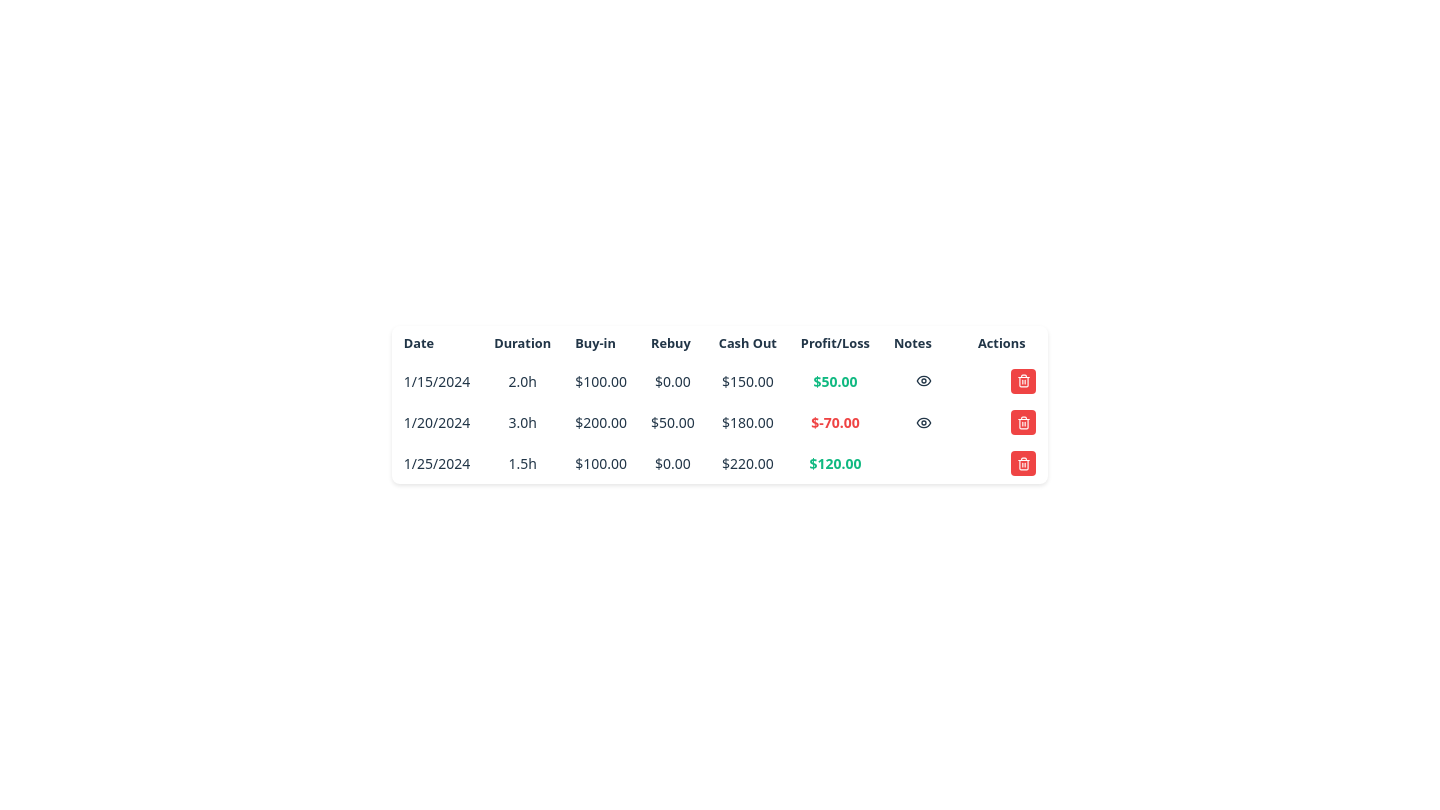
Test case: SessionTable › opens modal with notes when view notes button is clicked
Click the first view notes button
Click the button named "view notes" in the row of "1/15/2024" at x=924, y=381, box [912, 369, 936, 393]
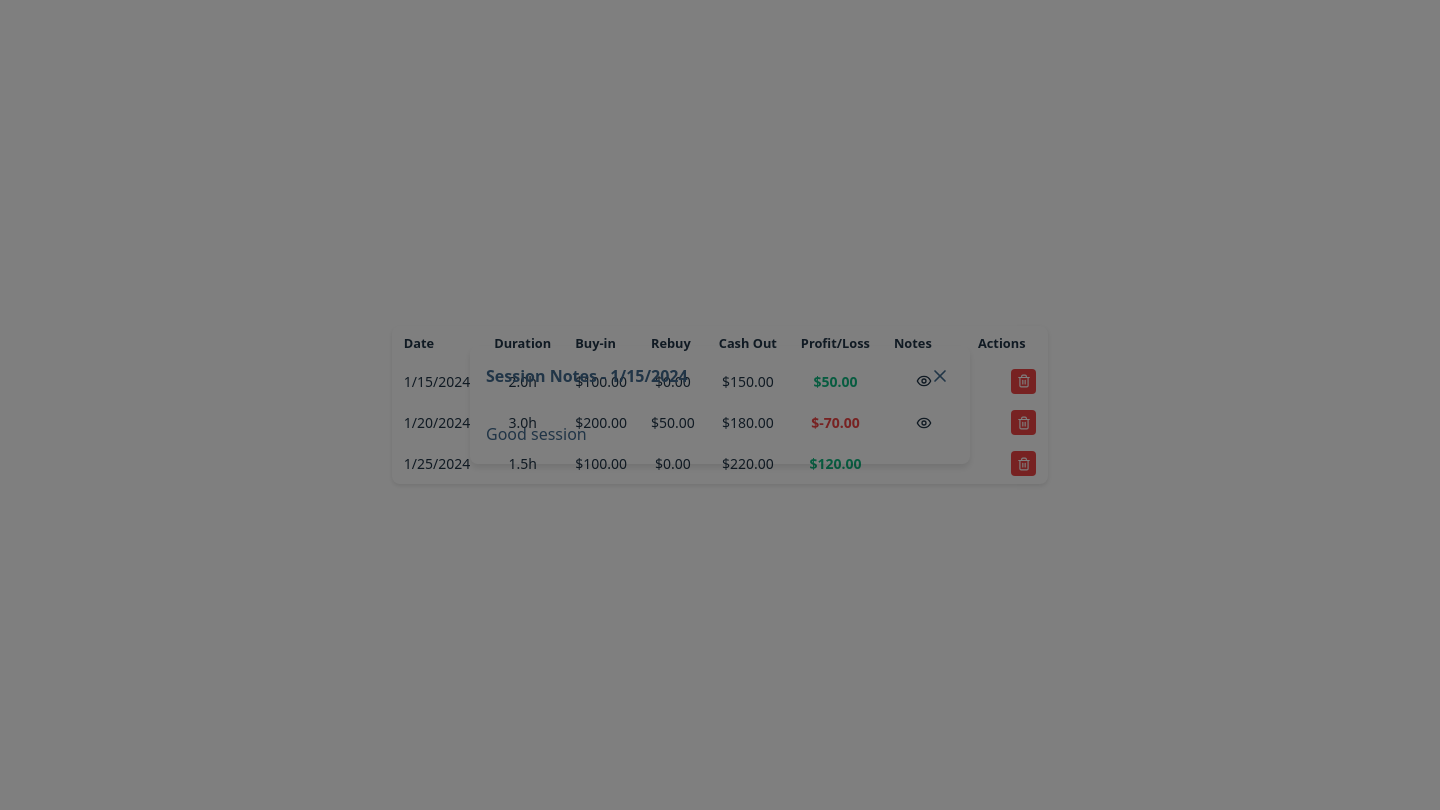
Result: the text "Good session" is shown at [486, 423, 587, 445]
Result: the heading "Session Notes - 1/15/2024" is shown at [486, 364, 688, 388]
